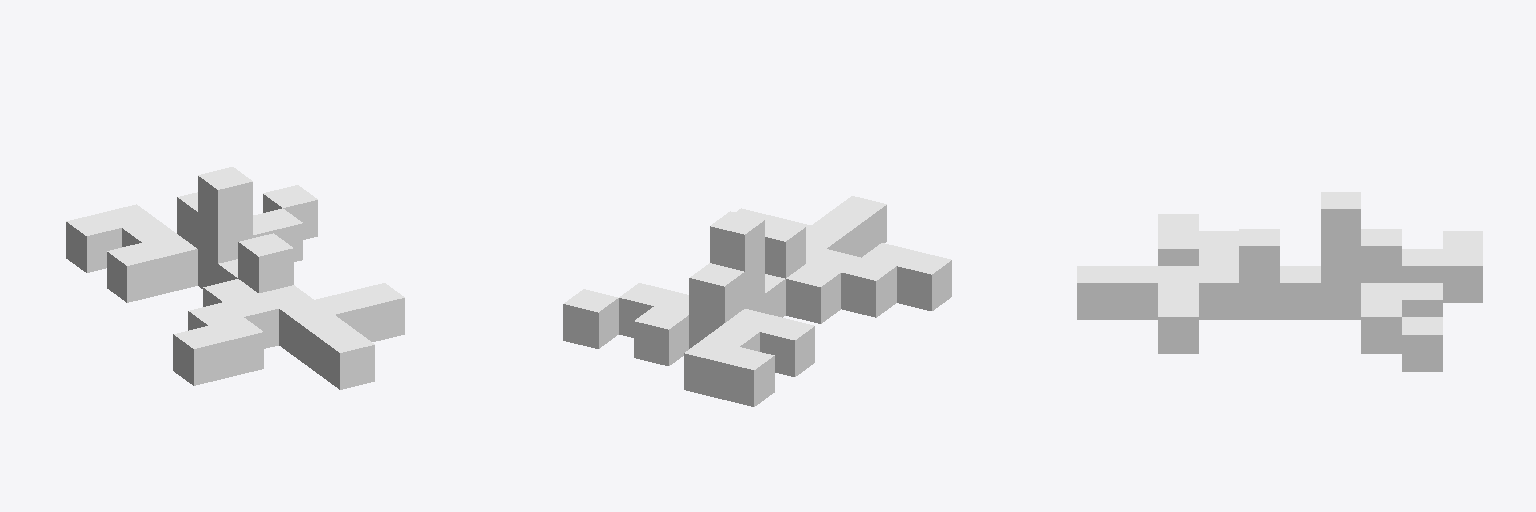
The model's file is wood_frst.obj.
The picture shows the model from 3 angles: view 1: azimuth 30°, elevation 25°; view 2: azimuth 150°, elevation 25°; view 3: azimuth 270°, elevation 25°; orthographic projection.
Parts seen in each view (by area): view 1: wood_frst; view 2: wood_frst; view 3: wood_frst.
Part boxes in pixels (x1,y1,x2,y2): wood_frst: (66, 167, 404, 389); wood_frst: (563, 196, 951, 406); wood_frst: (1077, 192, 1482, 371).
Size of the model in its own units: 7 by 3 by 10.